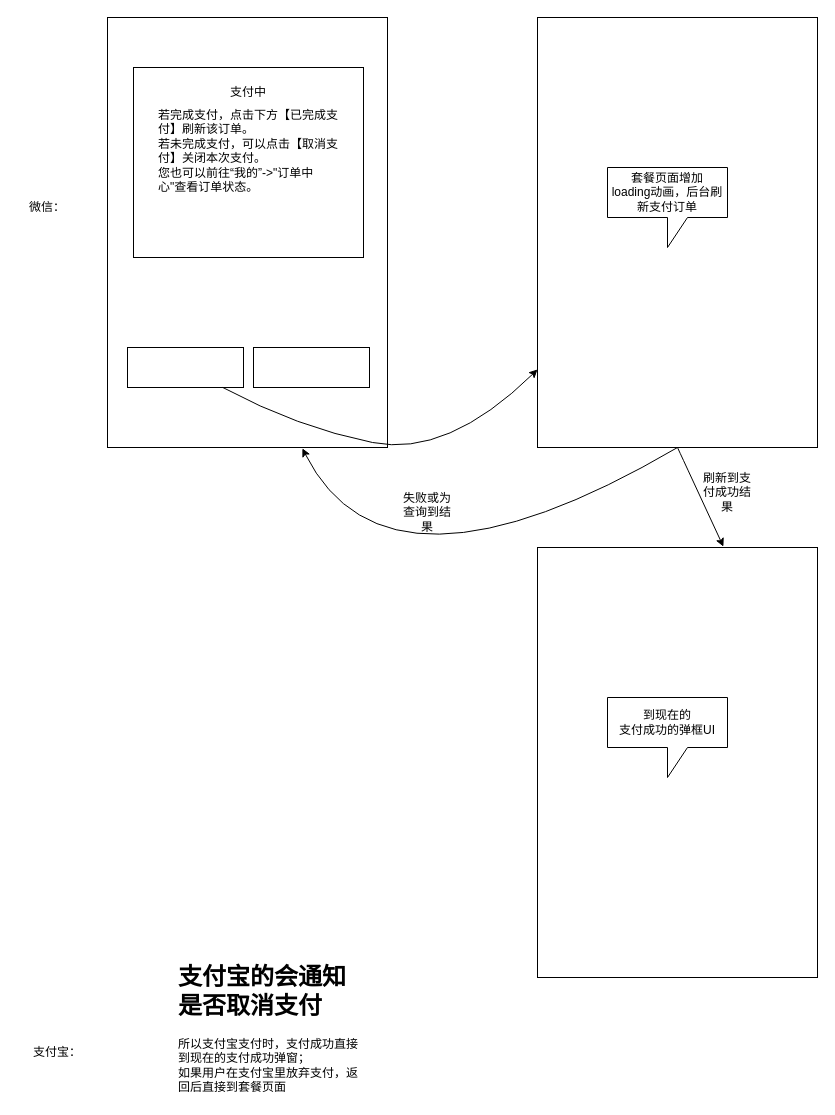
This 835x1115 diagram has some shape labels left out. The centre of each missing label's shape, as x and y in pixels:
取消支付: point (311, 367)
已完成支付: point (185, 367)
